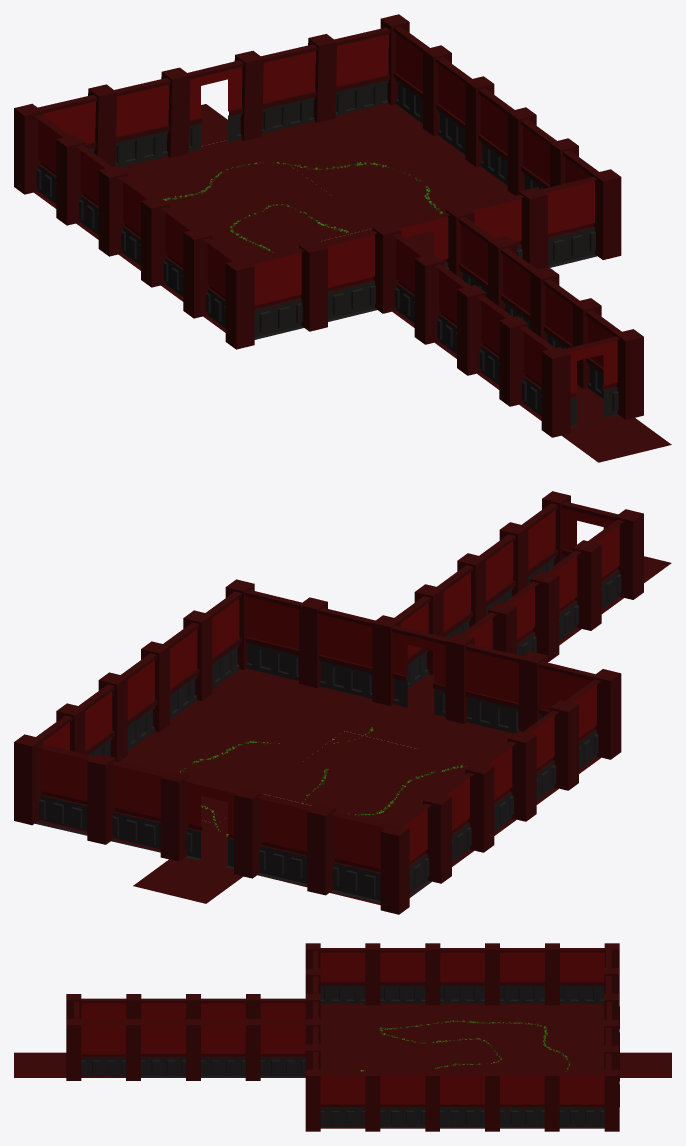
The model's file is Labirinto.glb.
The picture shows the model from 3 angles, top to bottom: view 1: azimuth 30°, elevation 25°; view 2: azimuth 150°, elevation 25°; view 3: azimuth 270°, elevation 25°; orthographic projection. The views are drawn at different scales.
Visible parts, largest first — view 1: Wall.046, Wall.051, Wall.049, Wall.015, Wall.010, Wall.045, Plane.019, Plane.022, Plane.005, Plane.018, Plane.003, Plane.007 (+61 smaller); view 2: Wall.009, Wall.045, Wall.010, Wall.048, Wall.046, Wall.049, Wall.051, Plane.014, Plane.002, Plane.005, Plane.018, Plane.030 (+62 smaller); view 3: Wall.004, Wall.028, Wall.037, Wall.022, Wall.026, Wall.002, Wall.005, Wall.039, Wall.041, Wall.042, Wall.001, Wall.011 (+52 smaller).
Part boxes in pixels (box(x1,y1,x2,y2)): Wall.046: box(114, 78, 170, 167); Wall.051: box(261, 44, 317, 133); Wall.049: box(334, 27, 390, 115); Wall.015: box(247, 248, 303, 339); Wall.010: box(321, 230, 377, 321); Wall.045: box(541, 176, 597, 267); Plane.019: box(218, 166, 332, 214); Plane.022: box(291, 148, 405, 196); Plane.005: box(333, 179, 446, 226); Plane.018: box(260, 197, 373, 244); Plane.003: box(562, 416, 671, 462); Plane.007: box(180, 138, 290, 183); Wall.009: box(318, 607, 375, 698); Wall.045: box(245, 590, 301, 680); Wall.010: box(465, 643, 521, 733); Wall.048: box(331, 811, 398, 902); Wall.046: box(258, 795, 313, 886); Wall.049: box(35, 744, 93, 835); Wall.051: box(111, 761, 166, 852); Plane.014: box(229, 713, 343, 761); Plane.002: box(303, 731, 417, 779); Plane.005: box(188, 744, 301, 791); Plane.018: box(262, 762, 374, 808); Plane.030: box(133, 857, 243, 903); Wall.004: box(260, 1021, 305, 1077); Wall.028: box(559, 1072, 604, 1128); Wall.037: box(380, 1072, 425, 1128); Wall.022: box(320, 948, 365, 1003); Wall.026: box(380, 948, 425, 1003); Wall.002: box(201, 1021, 245, 1077); Wall.005: box(141, 1021, 185, 1077); Wall.039: box(500, 1072, 544, 1128); Wall.041: box(440, 1072, 484, 1128); Wall.042: box(320, 1072, 365, 1126); Wall.001: box(81, 1021, 125, 1076); Wall.011: box(440, 948, 484, 1003).
Bounding box in the file's own units: 21 × 4.39 × 44.
